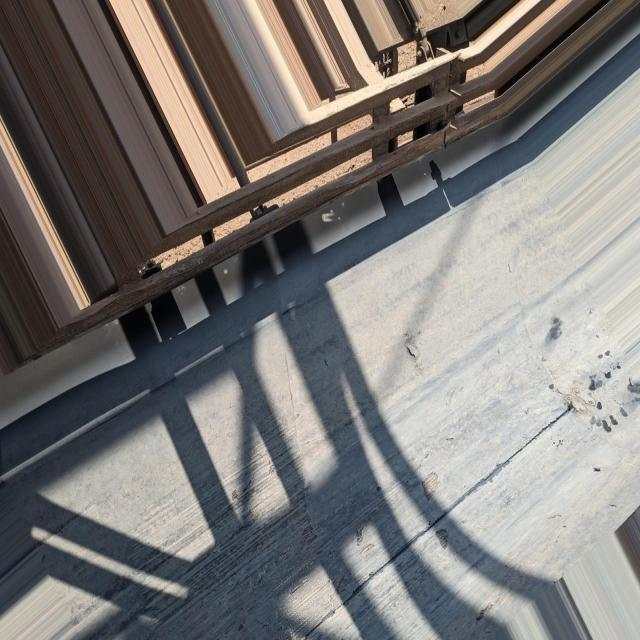Impact Damage: (431, 522, 454, 554), (419, 470, 440, 500)
Tear: (296, 401, 579, 640), (402, 342, 421, 362), (314, 355, 336, 372)
